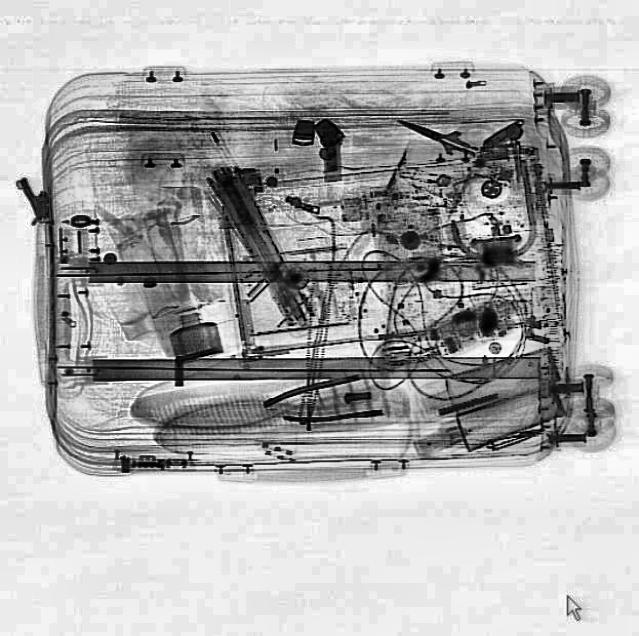Knife: (391, 107, 483, 163)
